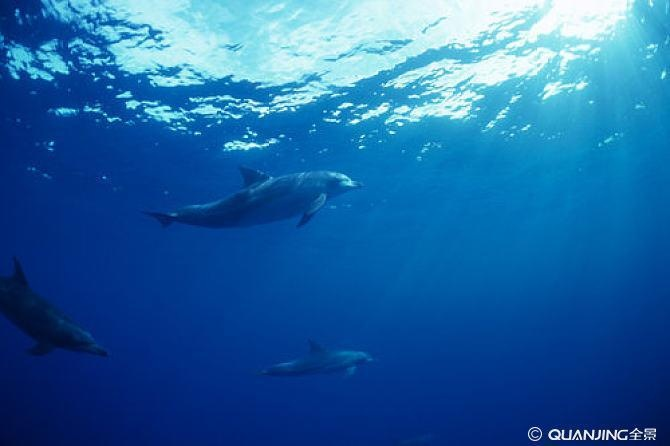fish: (146, 165, 367, 235), (1, 254, 107, 359), (259, 339, 375, 385)
